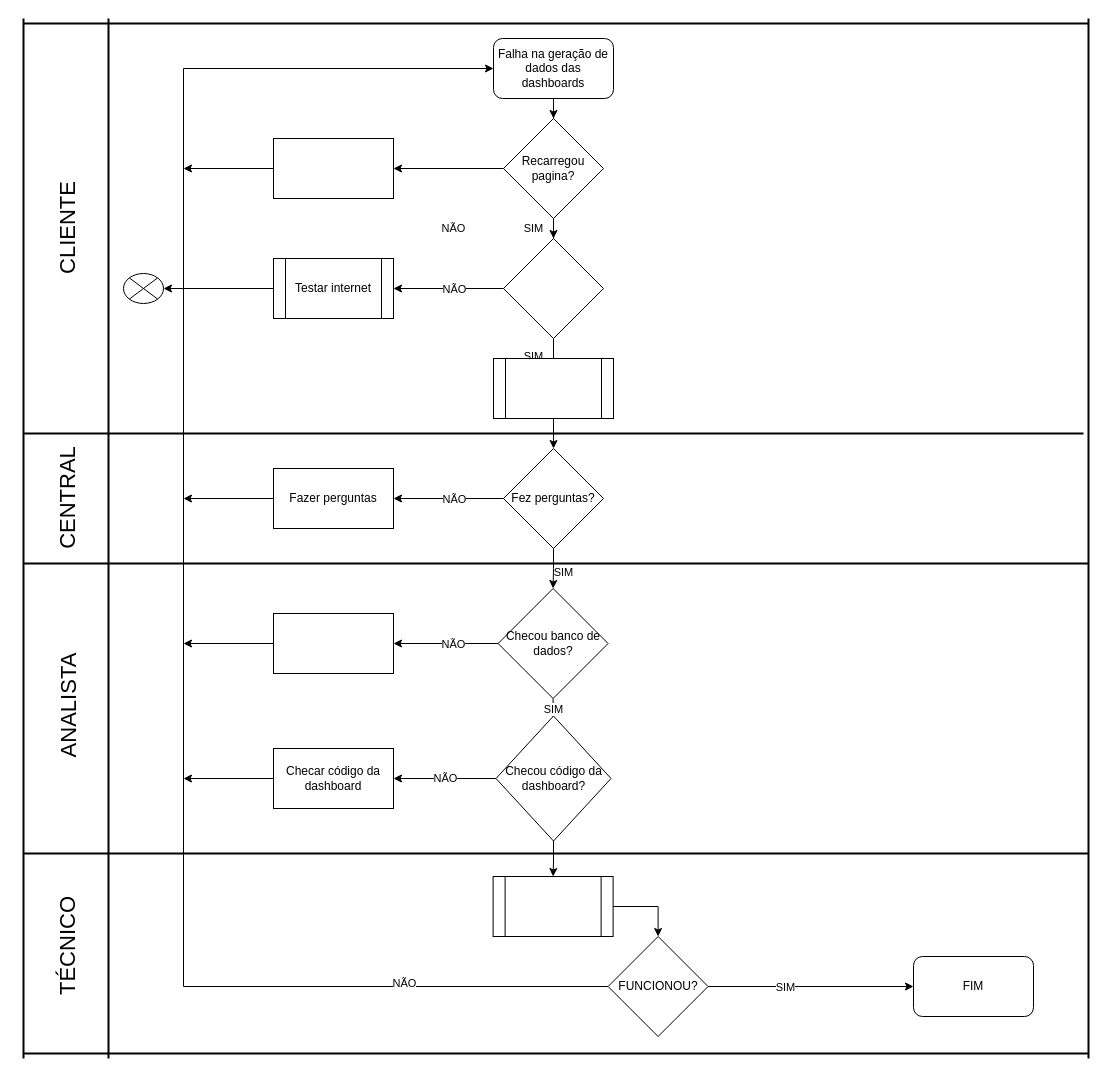
Some shapes in this 1111 by 1076 pixel diagram are drawn without their labels. The centre of each missing label's shape, as x and y in pixels:
"Analisar o sistema" goes at [552,906].
"Checar banco de dados" goes at [333,643].
"Internet funcionando?" goes at [553,288].
"Ligar para suporte" goes at [553,388].
"Recarregar pagina" goes at [333,168].
